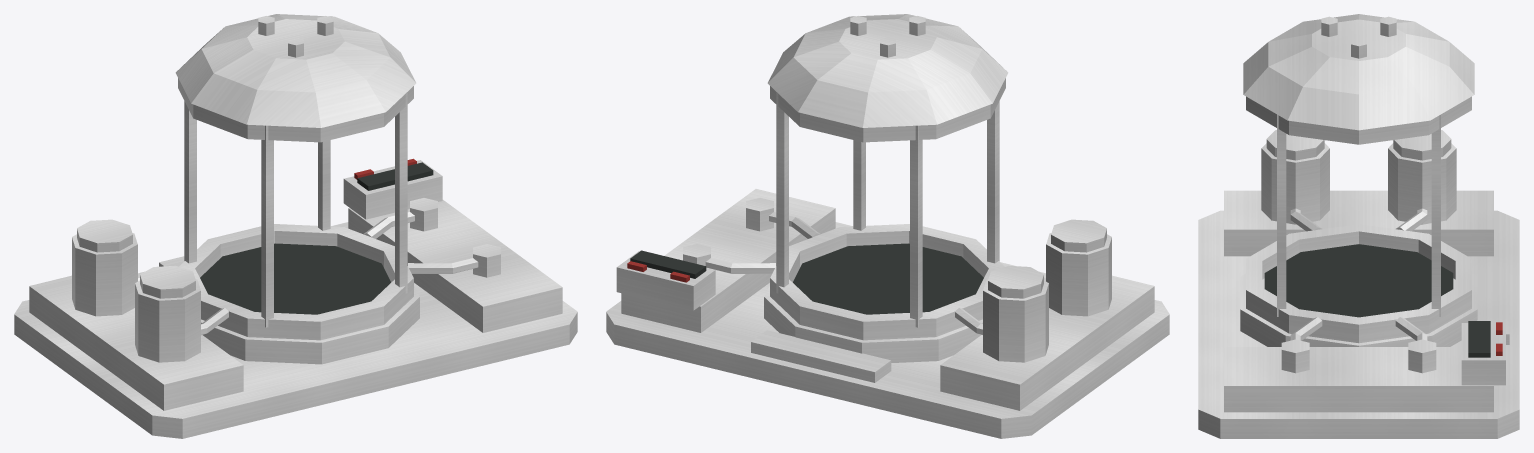
File: mech_gestator.obj
3 renders of one model, left to right at view 1: azimuth 30°, elevation 25°; view 2: azimuth 150°, elevation 25°; view 3: azimuth 270°, elevation 25°, orthographic.
Parts seen in each view (by area): view 1: mech_gestator; view 2: mech_gestator; view 3: mech_gestator.
Boxes of the visible parts, bbox=[...] form: mech_gestator: bbox=[14, 14, 577, 438]; mech_gestator: bbox=[606, 14, 1169, 438]; mech_gestator: bbox=[1198, 14, 1519, 438].
Size of the model in its own units: 2.88 by 1.98 by 1.88.
